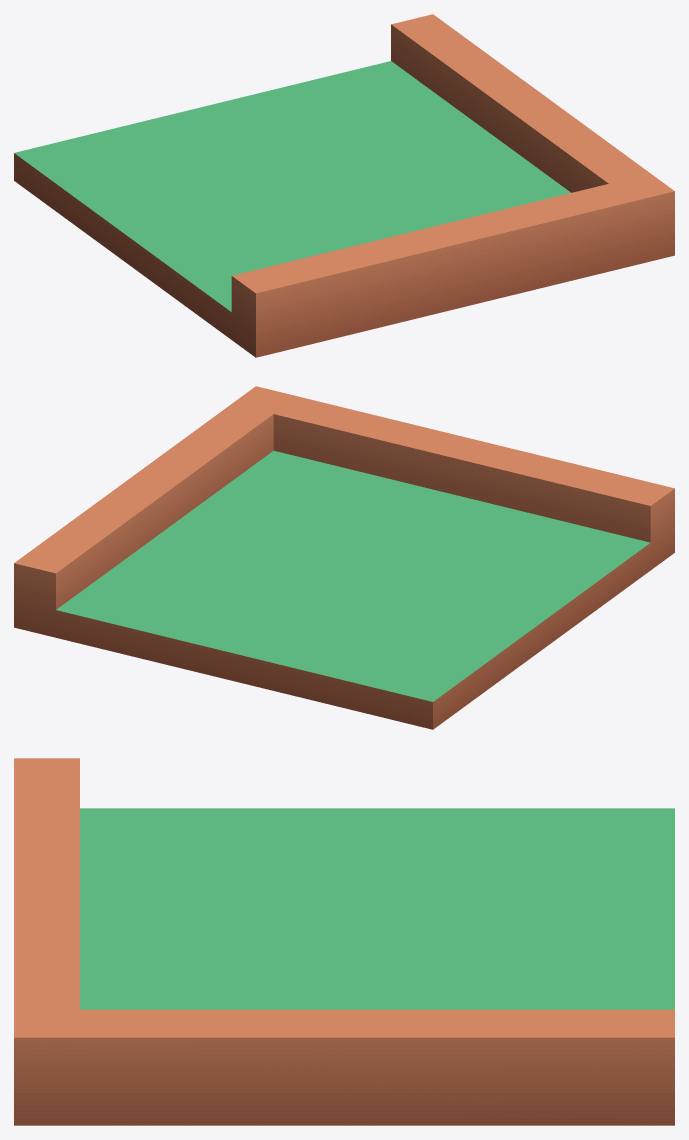
The model's file is corner.glb.
The picture shows the model from 3 angles, top to bottom: view 1: azimuth 30°, elevation 25°; view 2: azimuth 150°, elevation 25°; view 3: azimuth 270°, elevation 25°; orthographic projection. The views are drawn at different scales.
Visible parts, largest first — view 1: corner; view 2: corner; view 3: corner.
Part boxes in pixels (<box>): corner: <box>14,14,674,357</box>; corner: <box>14,386,674,729</box>; corner: <box>14,758,674,1125</box>.
Bounding box in the file's own units: 0.9999 × 0.1467 × 0.9999.
Materials: 1 (1 with a texture image).
